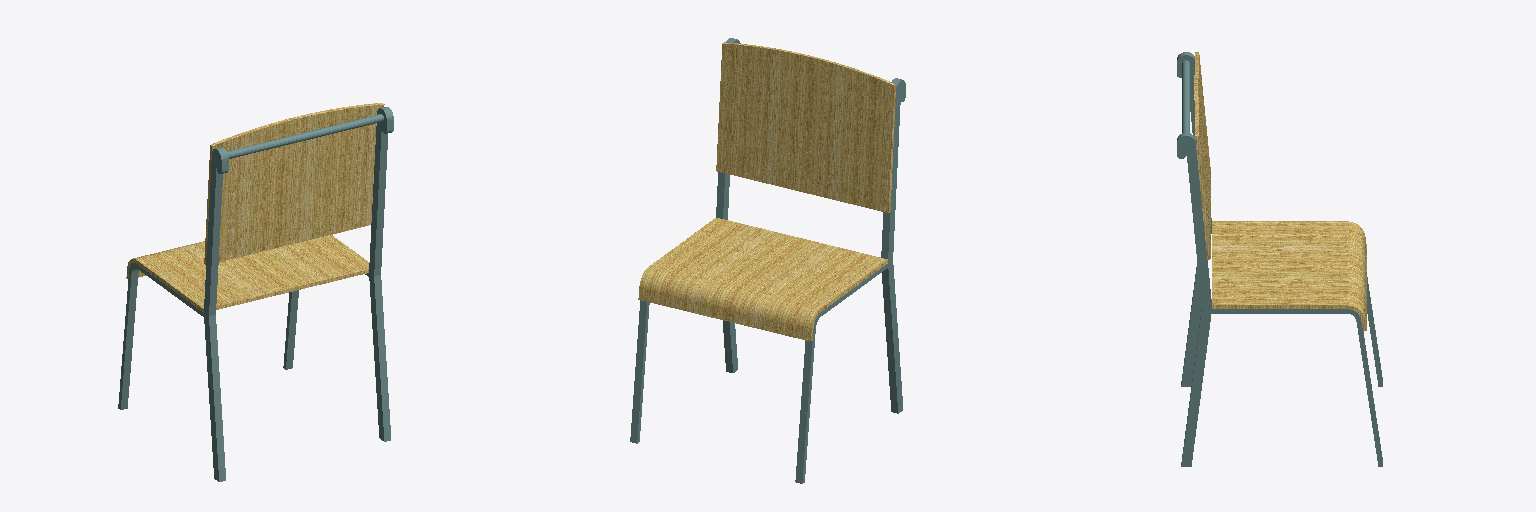
The picture shows the model from 3 angles: view 1: azimuth 30°, elevation 25°; view 2: azimuth 150°, elevation 25°; view 3: azimuth 270°, elevation 25°; orthographic projection.
Visible parts, largest first — view 1: mesh1_mesh1-geometry, mesh5_mesh5-geometry, mesh3_mesh3-geometry; view 2: mesh1_mesh1-geometry, mesh3_mesh3-geometry, mesh5_mesh5-geometry; view 3: mesh3_mesh3-geometry, mesh5_mesh5-geometry, mesh1_mesh1-geometry.
Part boxes in pixels (x1,y1,x2,y2): mesh1_mesh1-geometry: (204,103,384,264); mesh5_mesh5-geometry: (118,107,393,481); mesh3_mesh3-geometry: (126,235,369,312); mesh1_mesh1-geometry: (716,42,896,212); mesh3_mesh3-geometry: (638,218,887,341); mesh5_mesh5-geometry: (630,38,905,483); mesh3_mesh3-geometry: (1212,221,1366,330); mesh5_mesh5-geometry: (1177,52,1382,466); mesh1_mesh1-geometry: (1194,52,1210,259).
Bounding box in the file's own units: 0.4221 × 0.7929 × 0.4394.
3 materials, 1 textured.